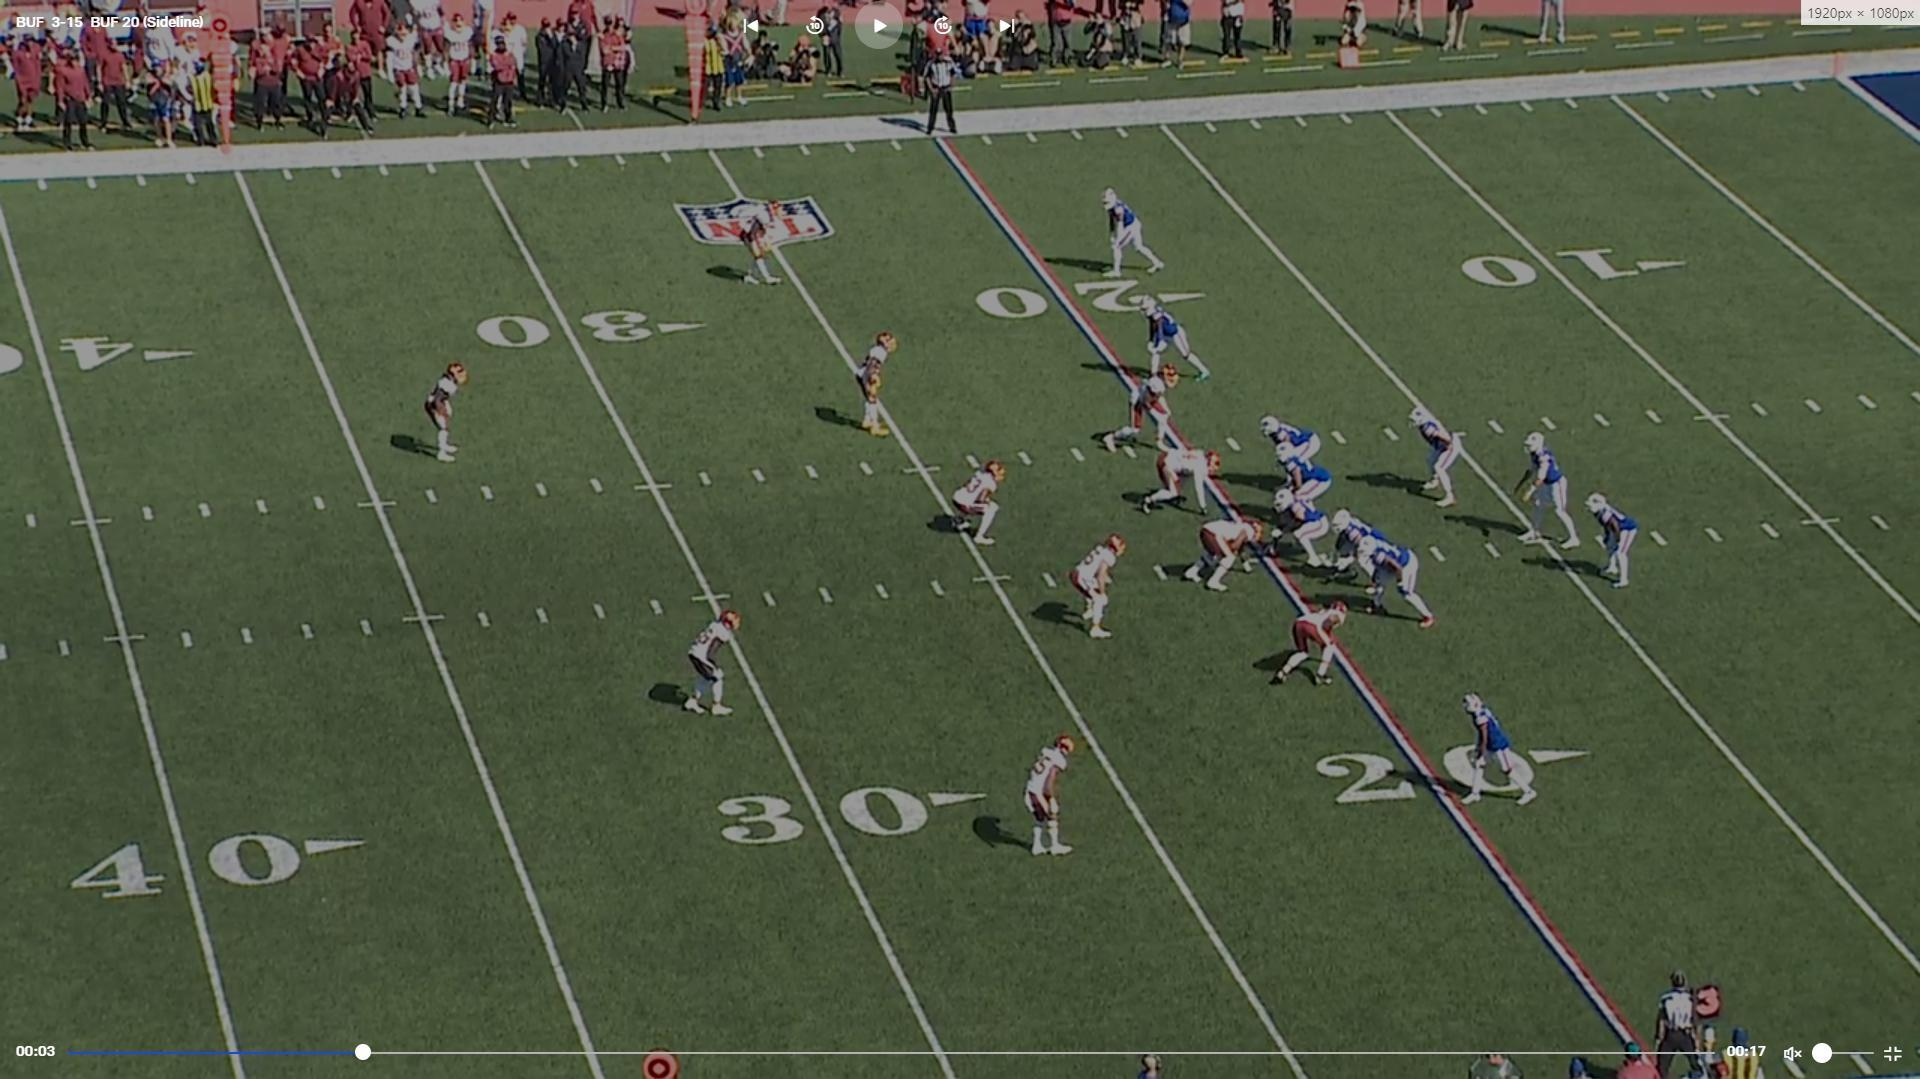defense: (1022, 729, 1081, 863), (683, 605, 746, 722), (1271, 598, 1352, 689), (1105, 365, 1185, 455), (1187, 512, 1273, 591), (1138, 447, 1224, 520), (1068, 533, 1122, 645), (951, 456, 1009, 553), (422, 360, 469, 468), (852, 327, 897, 439), (733, 198, 783, 292)
oline: (1357, 536, 1440, 633), (1267, 487, 1329, 571), (1329, 508, 1391, 590), (1259, 414, 1323, 480), (1273, 450, 1333, 509)
qb: (1514, 425, 1576, 549)
ref: (1648, 963, 1709, 1054), (920, 44, 965, 142)
skill: (1455, 693, 1540, 813), (1135, 292, 1216, 388), (1098, 187, 1174, 286), (1414, 402, 1473, 512), (1585, 489, 1640, 594)
